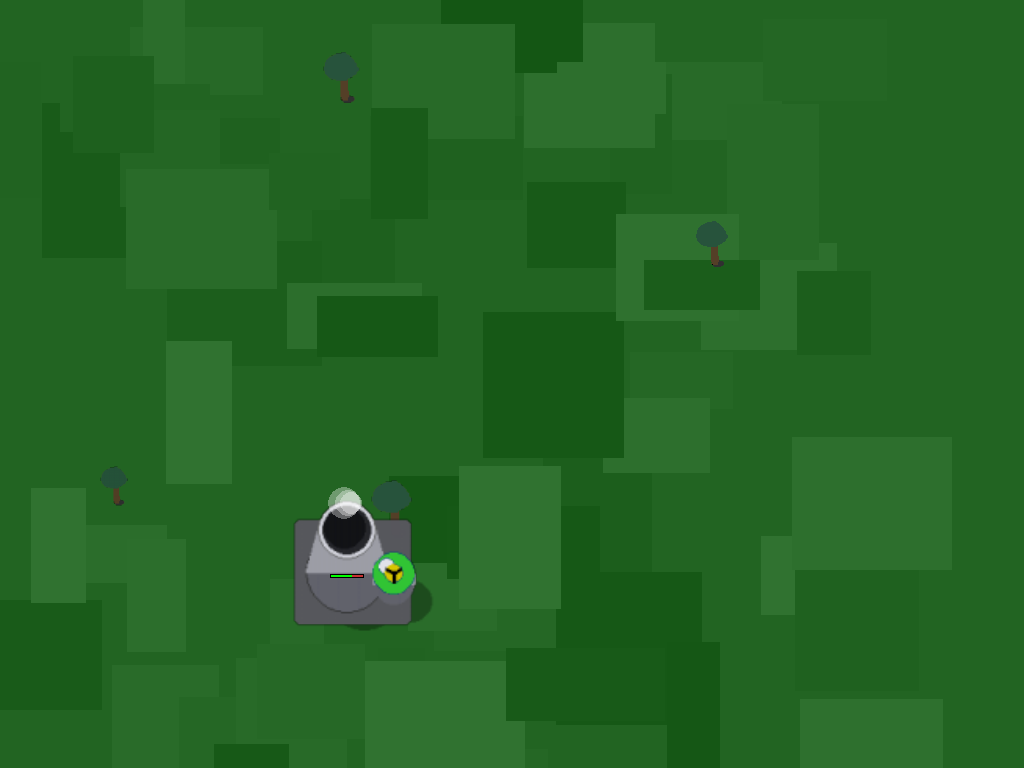APC_usa: (300, 526, 393, 619)
